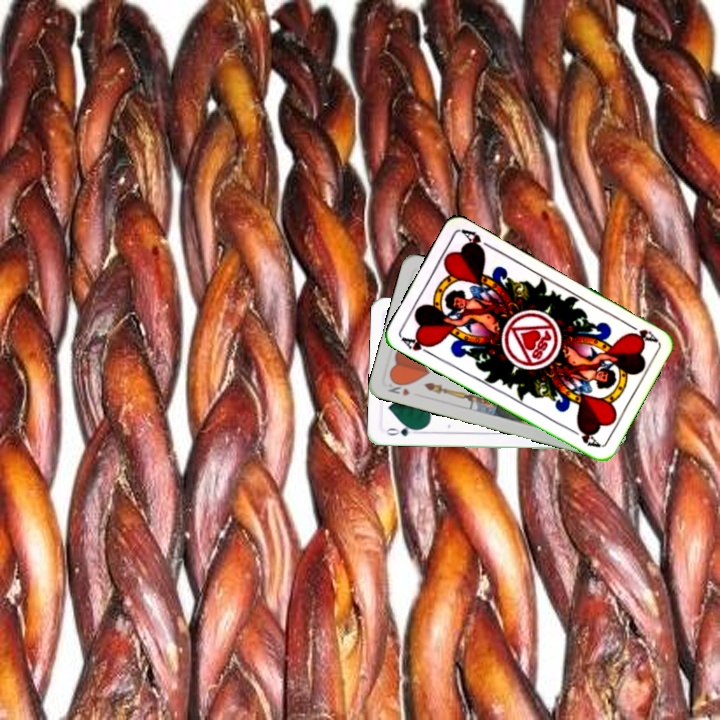GO: (382, 422, 422, 439)
HA: (622, 318, 660, 345), (397, 333, 436, 358)
HK: (384, 376, 413, 399)
